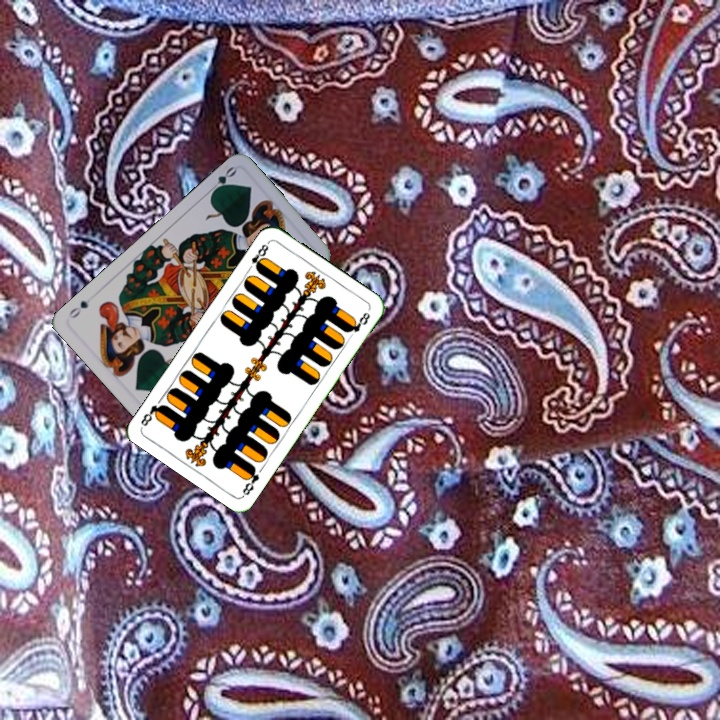E8: (244, 238, 272, 274), (238, 462, 262, 498)
GO: (204, 162, 239, 197)
